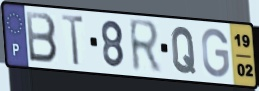8: (100, 19, 127, 70)
B: (24, 9, 60, 65)
G: (200, 27, 231, 80)
Q: (170, 25, 198, 76)
R: (127, 17, 163, 76)
T: (60, 12, 86, 68)
